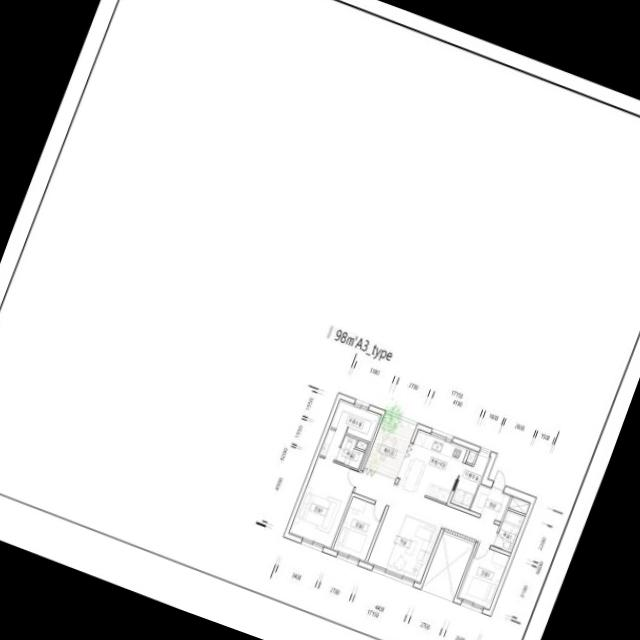background: (0, 0, 640, 640)
space_bedroom: (289, 456, 359, 548), (457, 544, 509, 609), (333, 496, 384, 561)
space_dressroom: (330, 399, 381, 442)
space_front: (470, 484, 510, 523)
space_kitchen: (396, 429, 468, 503)
space_living_room: (354, 473, 499, 583)
space_multipurpose_space: (450, 452, 490, 509)
space_other: (508, 496, 529, 514), (466, 449, 477, 464), (356, 440, 367, 450)
space_toilet: (319, 428, 364, 469), (493, 509, 524, 552)
